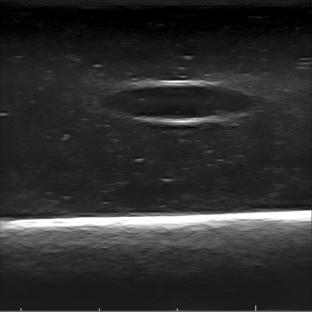vessel: (99, 79, 258, 126)
